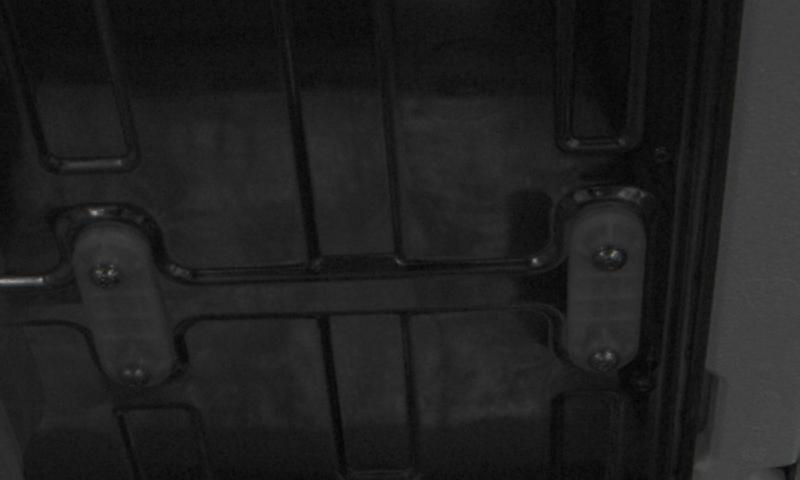vida-ok: (89, 248, 135, 292), (589, 236, 636, 279), (581, 341, 627, 380), (113, 354, 158, 393)
